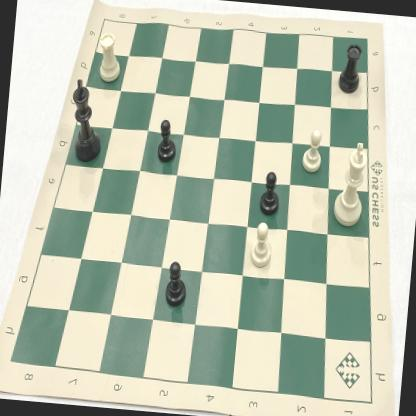black-king: (63, 74, 110, 172)
black-pawn: (160, 254, 196, 315), (151, 113, 184, 169), (255, 166, 287, 218)
black-rook: (334, 37, 368, 101)
white-king: (326, 134, 376, 233)
white-pawn: (245, 219, 278, 274), (296, 126, 328, 180)
white-rook: (94, 28, 128, 90)
